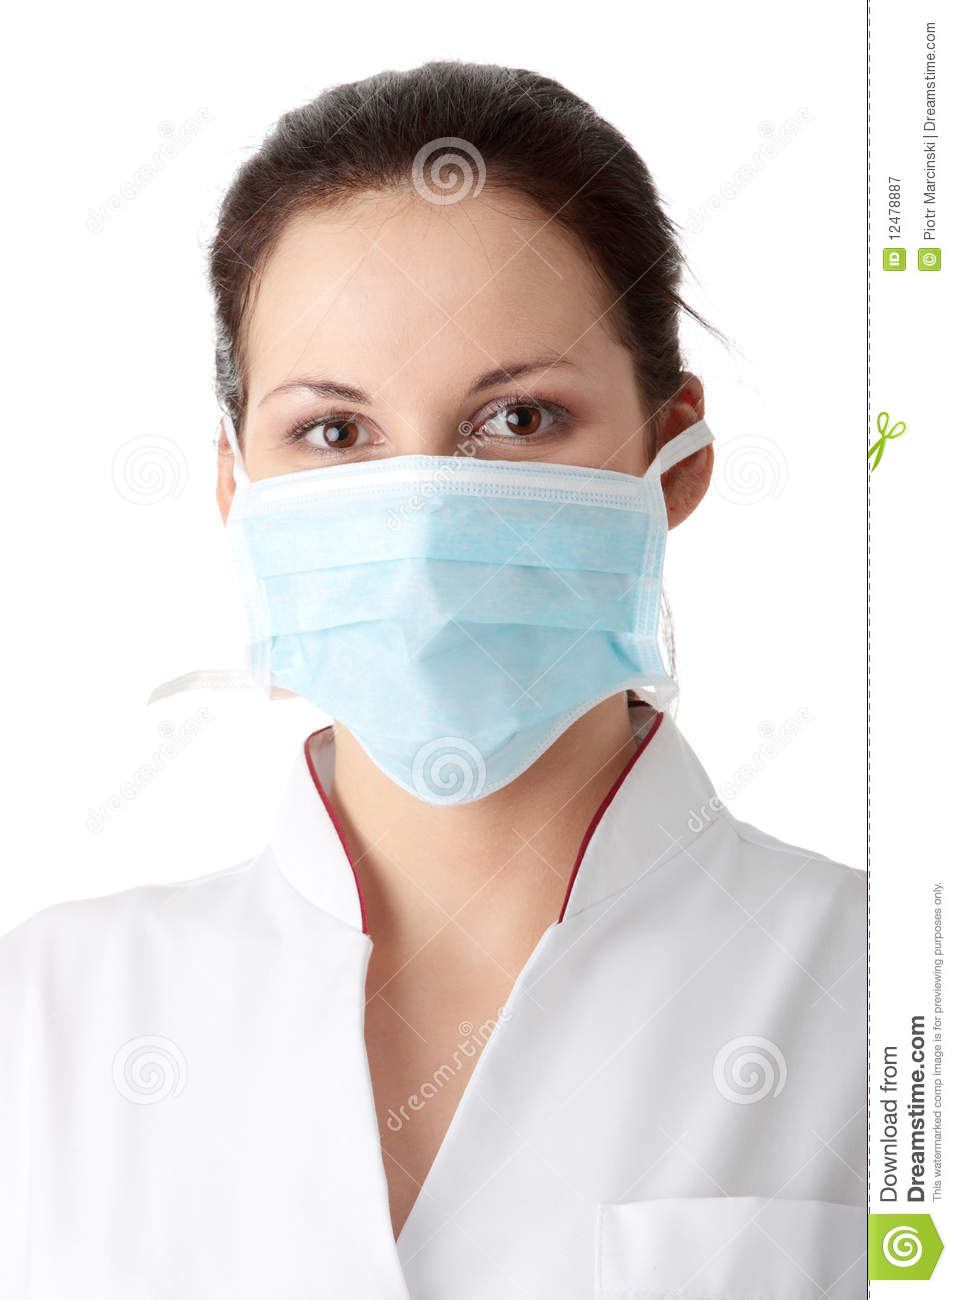mask: (224, 455, 671, 817)
